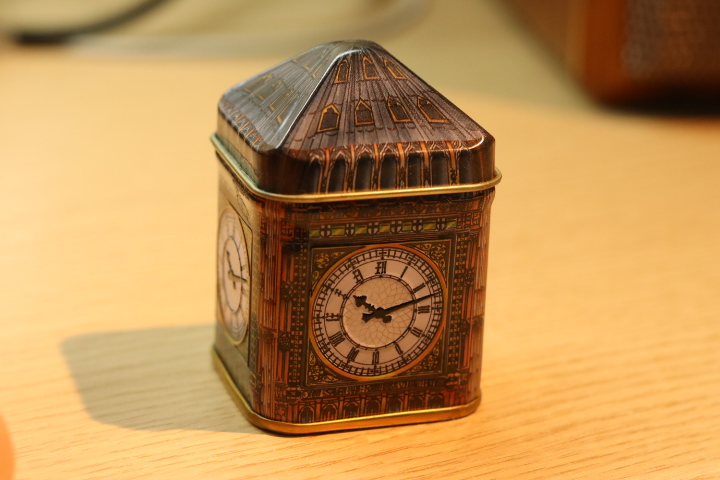Big Ben: (204, 33, 525, 439)
